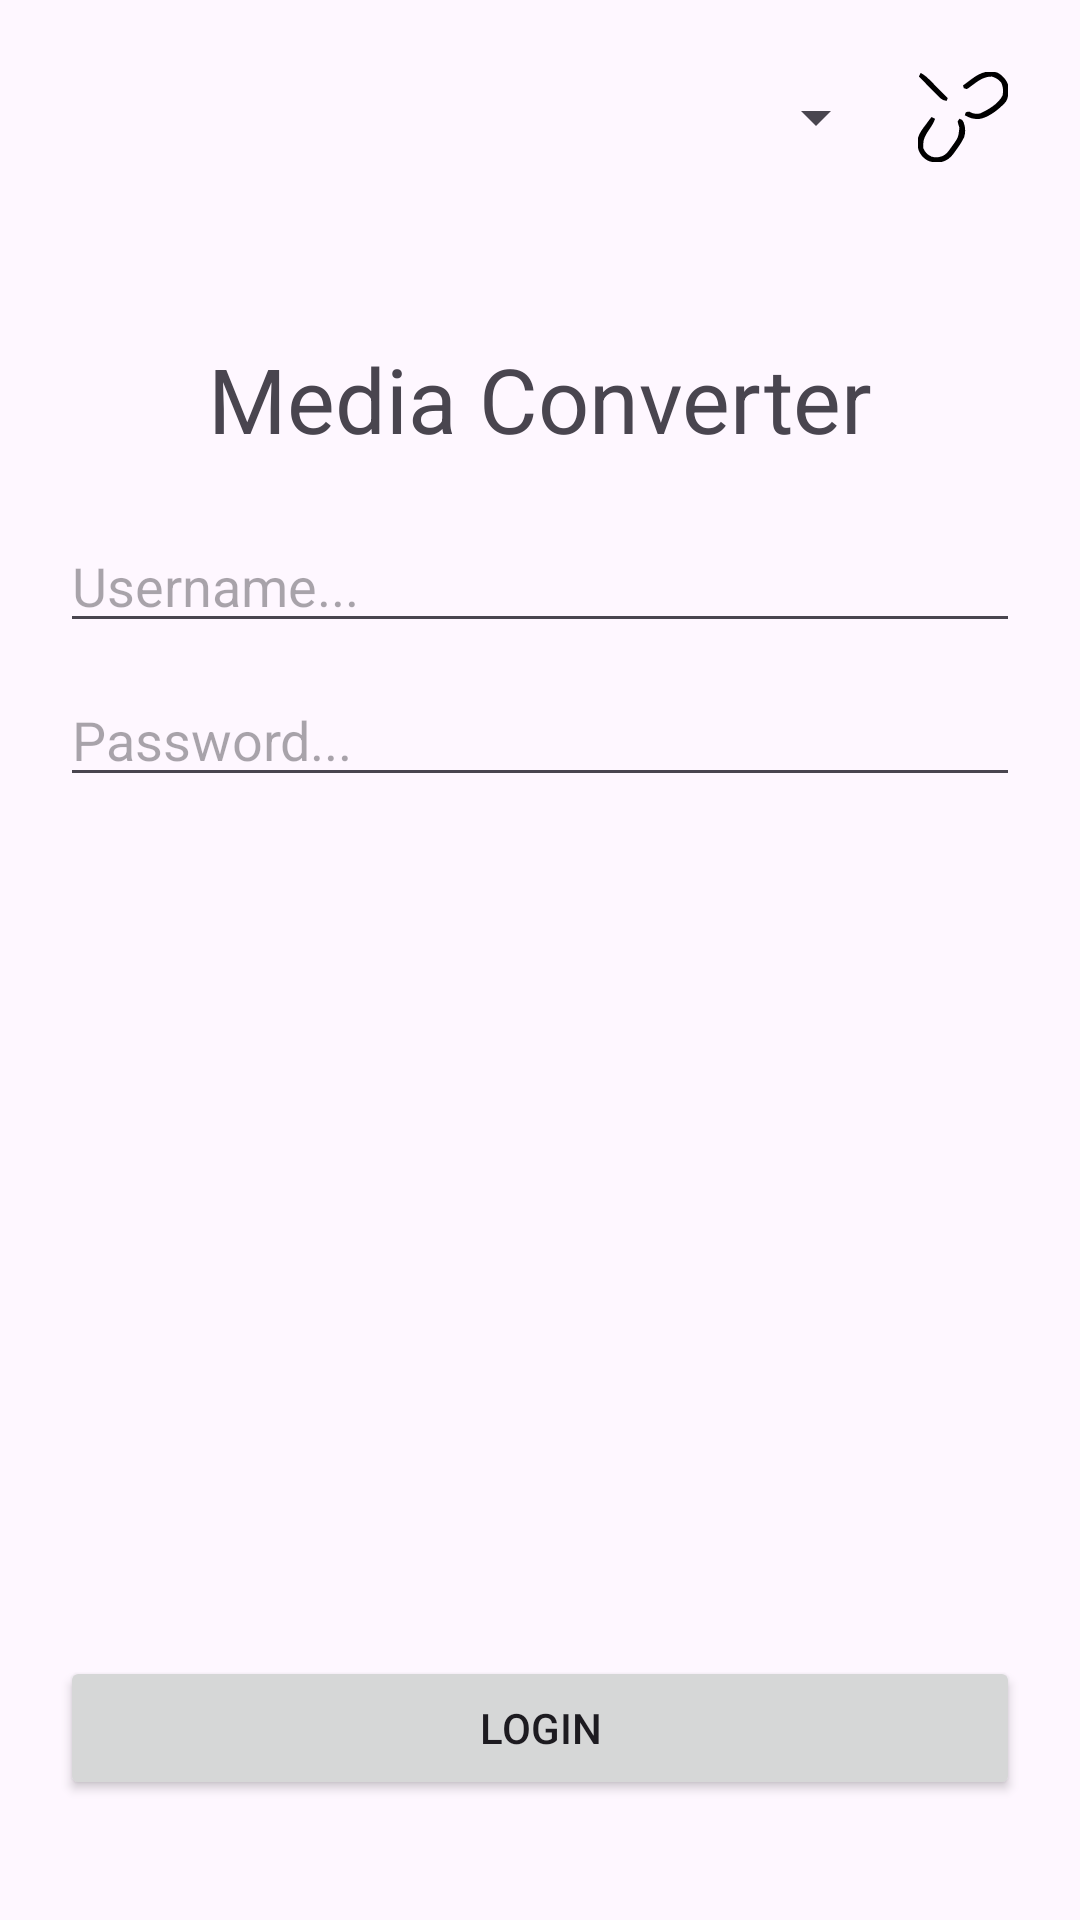

Point at icon controls on the screen. Image size 1080 × 1920, points as (x=x, y=y).
broken link: (x=963, y=117)
